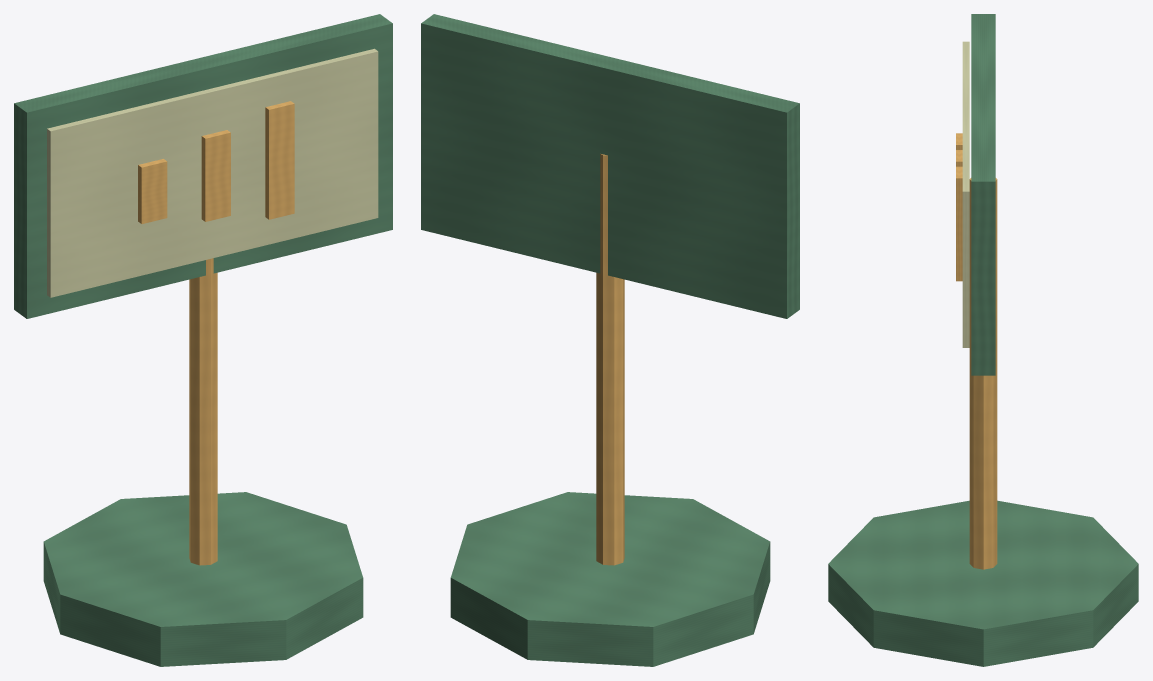
File: atlas100-s003-a11.glb
3 views of the same model, side by side, from view 1: azimuth 30°, elevation 25°; view 2: azimuth 150°, elevation 25°; view 3: azimuth 270°, elevation 25° (orthographic). The views are drawn at different scales.
Parts seen in each view (by area): view 1: atlas100-s003-a11:part-003, atlas100-s003-a11:part-000, atlas100-s003-a11:part-002, atlas100-s003-a11:part-001, atlas100-s003-a11:part-006, atlas100-s003-a11:part-005, atlas100-s003-a11:part-004; view 2: atlas100-s003-a11:part-002, atlas100-s003-a11:part-000, atlas100-s003-a11:part-001; view 3: atlas100-s003-a11:part-000, atlas100-s003-a11:part-002, atlas100-s003-a11:part-001, atlas100-s003-a11:part-003, atlas100-s003-a11:part-006.
Boxes of the visible parts, bbox=[...] form: atlas100-s003-a11:part-003: bbox=[47, 48, 378, 297]; atlas100-s003-a11:part-000: bbox=[43, 492, 363, 666]; atlas100-s003-a11:part-002: bbox=[14, 14, 392, 318]; atlas100-s003-a11:part-001: bbox=[189, 258, 217, 565]; atlas100-s003-a11:part-006: bbox=[265, 101, 294, 219]; atlas100-s003-a11:part-005: bbox=[201, 130, 230, 221]; atlas100-s003-a11:part-004: bbox=[138, 159, 167, 223]; atlas100-s003-a11:part-002: bbox=[421, 14, 799, 318]; atlas100-s003-a11:part-000: bbox=[450, 492, 770, 666]; atlas100-s003-a11:part-001: bbox=[596, 154, 624, 565]; atlas100-s003-a11:part-000: bbox=[828, 500, 1138, 666]; atlas100-s003-a11:part-002: bbox=[971, 14, 995, 375]; atlas100-s003-a11:part-001: bbox=[969, 178, 997, 569]; atlas100-s003-a11:part-003: bbox=[962, 41, 969, 347]; atlas100-s003-a11:part-006: bbox=[956, 166, 962, 281].
Bounding box in the file's own units: 1.15 × 1.61 × 0.9.
Materials: 3 (3 with a texture image).
